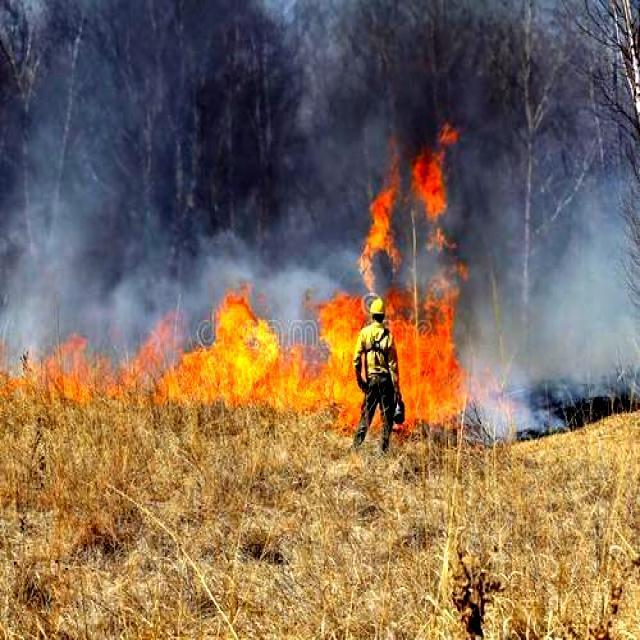Fire: (178, 273, 462, 427), (357, 122, 470, 272), (0, 343, 115, 408), (124, 314, 178, 406)
Smoke: (428, 54, 640, 434), (3, 187, 320, 327)
